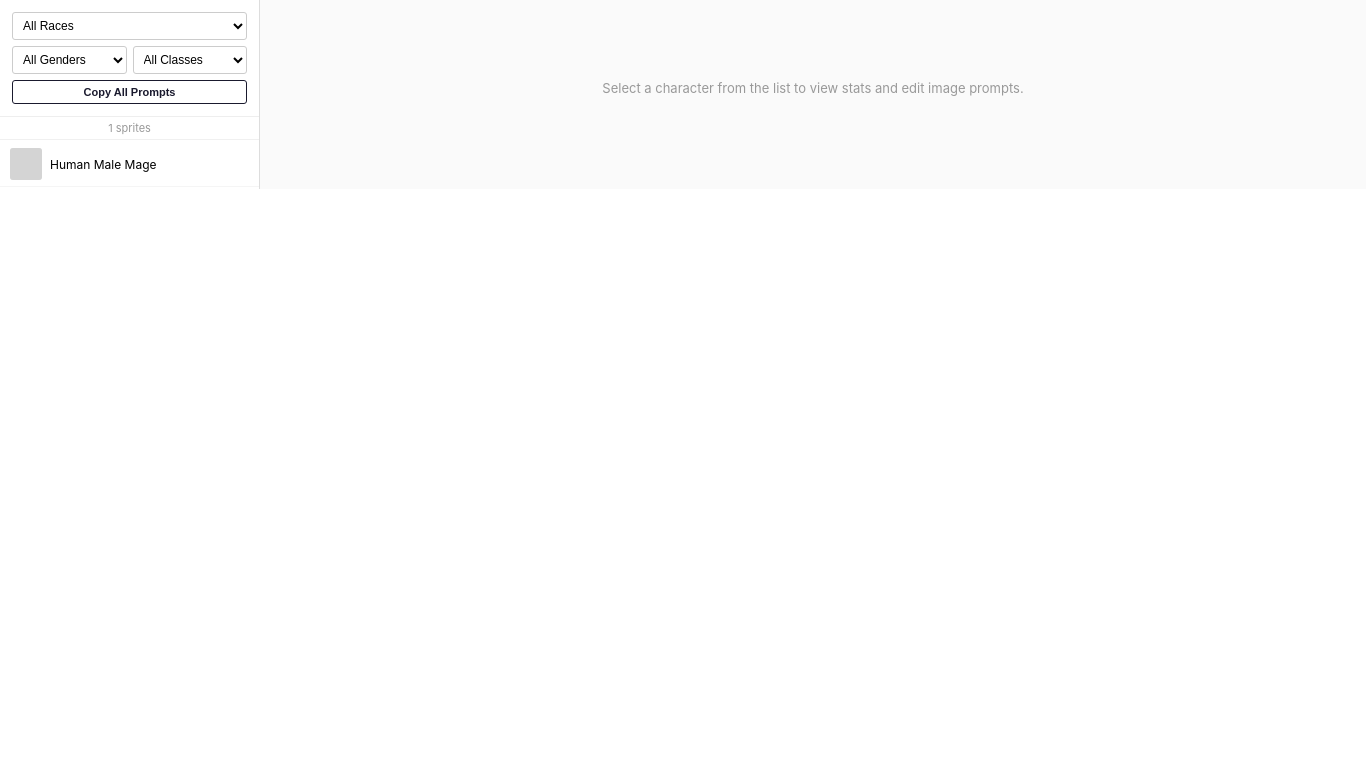
Scenario: PcSpriteEditor › detail panel shows magic schools for magic classes
Expected: the text "1 sprites" is shown, 0,117 -> 259,140
Click the text "Human Male Mage": (103, 164) 50,156 -> 156,172
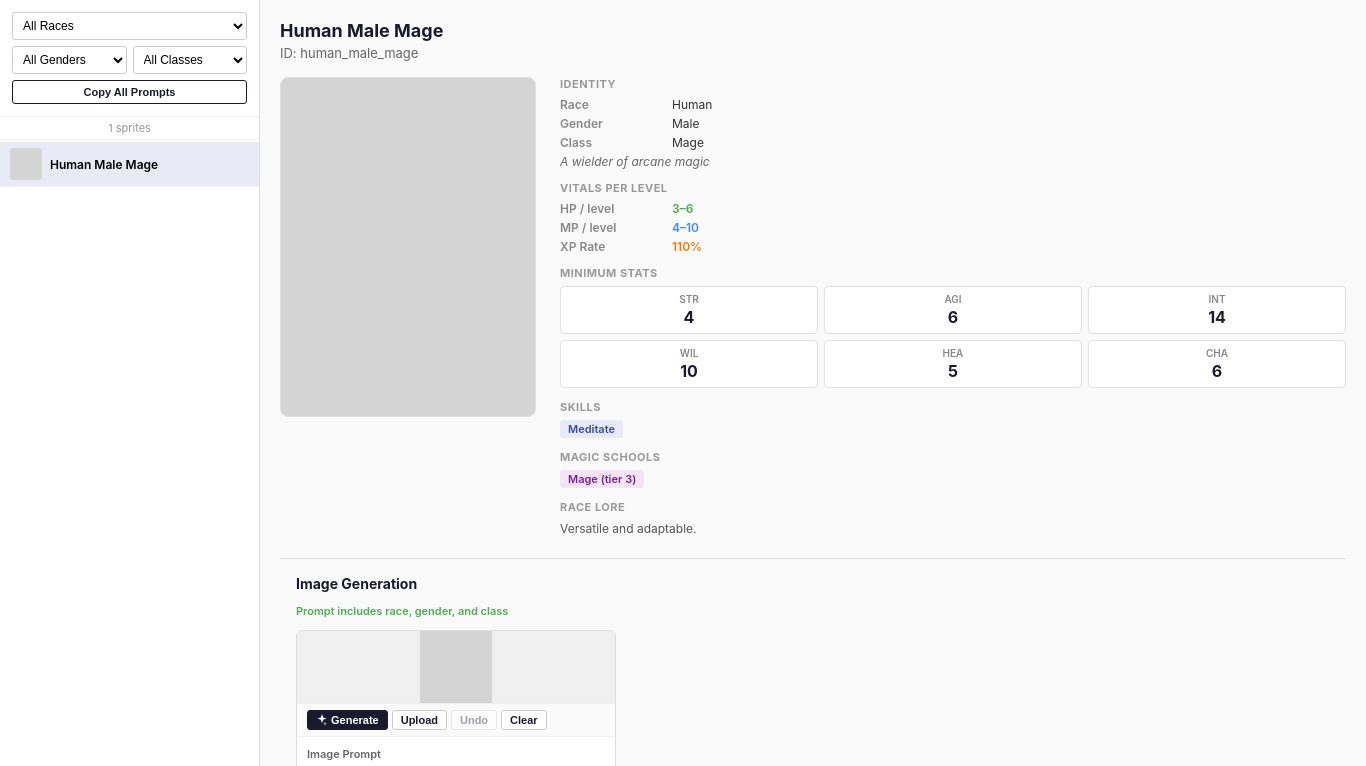
Expected: the text "Magic Schools" is shown, 560,450 -> 660,464
Expected: the text "Mage (tier 3)" is shown, 560,470 -> 644,488
Expected: the text "3–6" is shown, 672,201 -> 693,216
